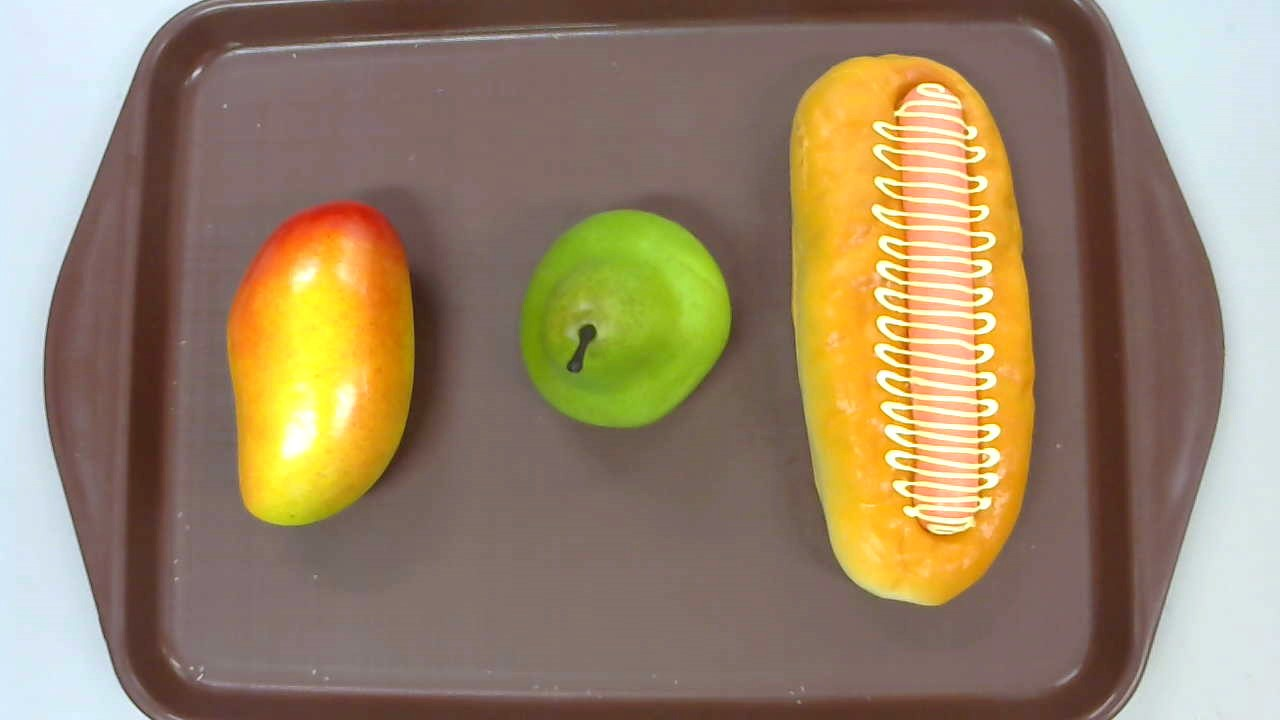green pear: (519, 210, 731, 429)
hot dog: (786, 54, 1035, 605)
red mango: (226, 199, 416, 527)
